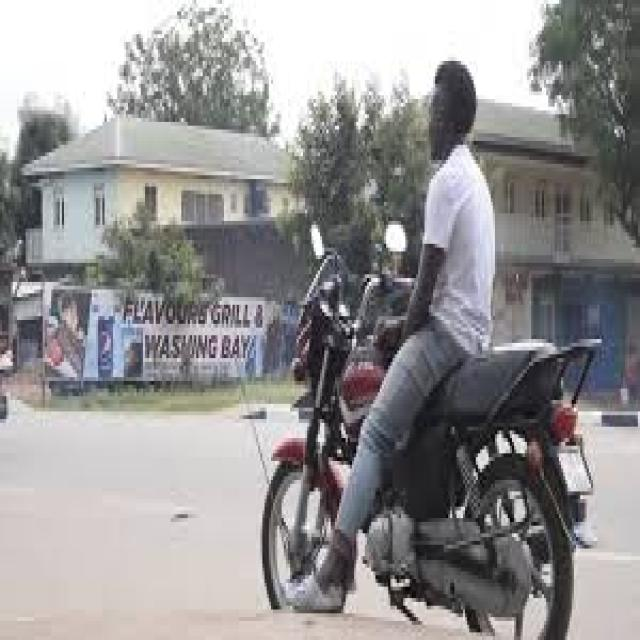bodaboda: (241, 171, 614, 640)
